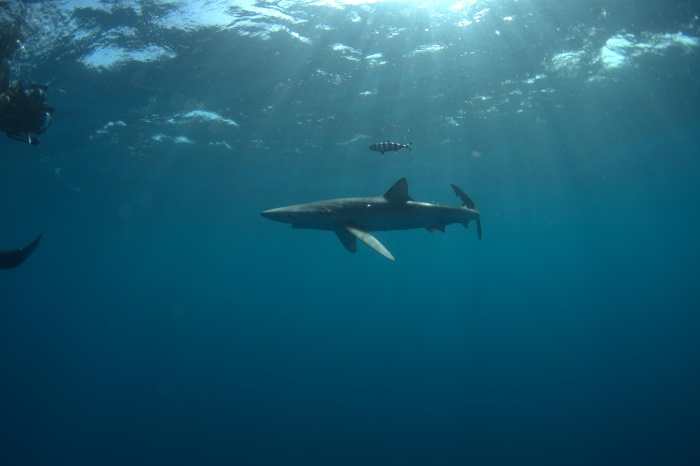Azul: (238, 167, 507, 274)
